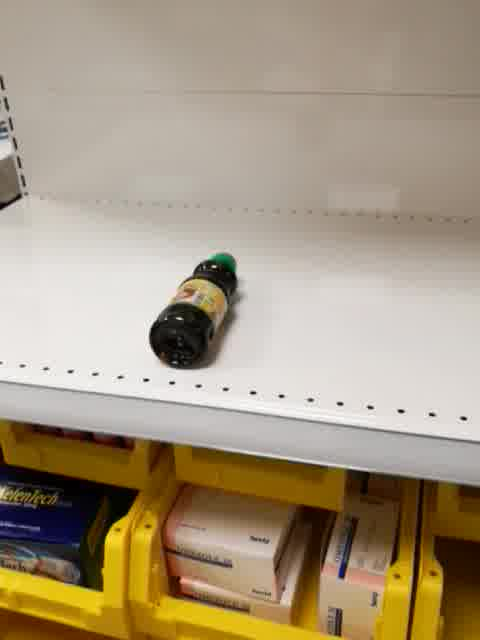cookingoil: (146, 251, 239, 371)
